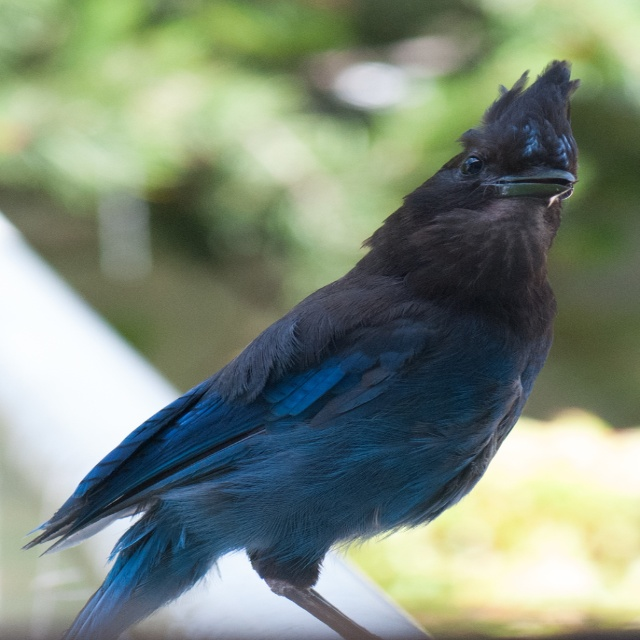Raven: (20, 86, 583, 619)
